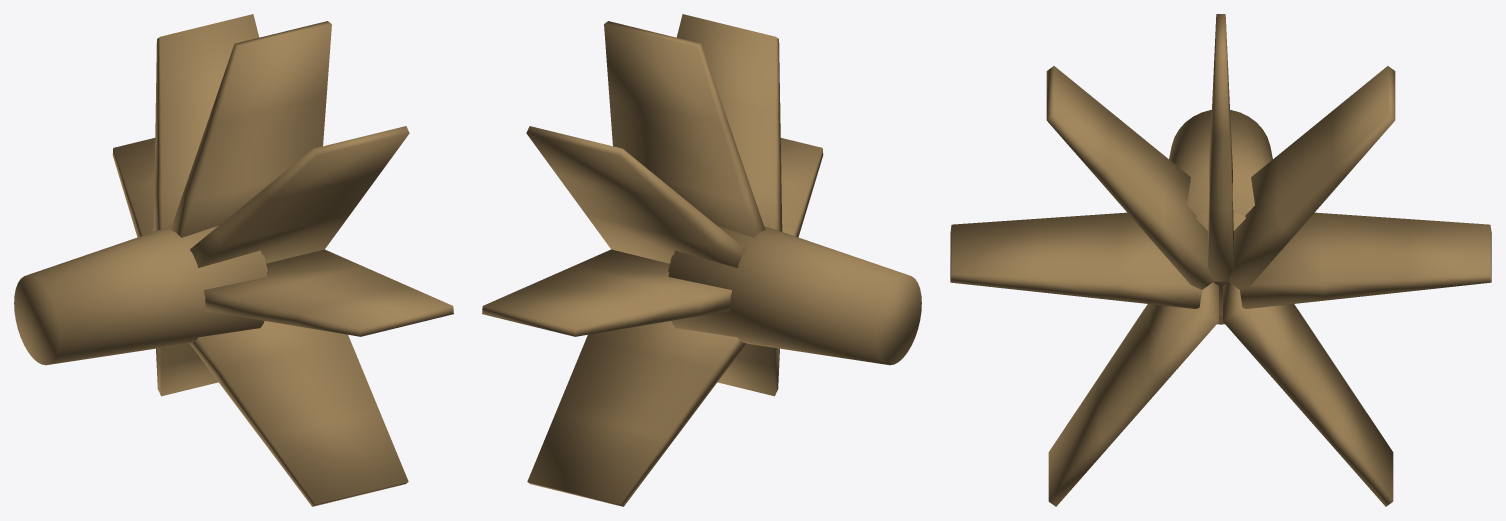
Rendered from US_SSBN_EthanAllen_PROPULSOR_01.fbx.
3 views of the same model, side by side, from view 1: azimuth 30°, elevation 25°; view 2: azimuth 150°, elevation 25°; view 3: azimuth 270°, elevation 25° (orthographic). The views are drawn at different scales.
Parts seen in each view (by area): view 1: US_SSBN_EthanAllen_PROPULSOR_01; view 2: US_SSBN_EthanAllen_PROPULSOR_01; view 3: US_SSBN_EthanAllen_PROPULSOR_01.
Boxes of the visible parts, x1,y1,x2,y2 form: US_SSBN_EthanAllen_PROPULSOR_01: [14, 14, 453, 506]; US_SSBN_EthanAllen_PROPULSOR_01: [482, 14, 921, 506]; US_SSBN_EthanAllen_PROPULSOR_01: [950, 14, 1491, 506].
Size of the model in its own units: 2.2 by 3.23 by 2.92.
